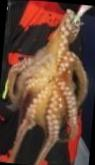Cephalopod: (7, 8, 87, 164)
